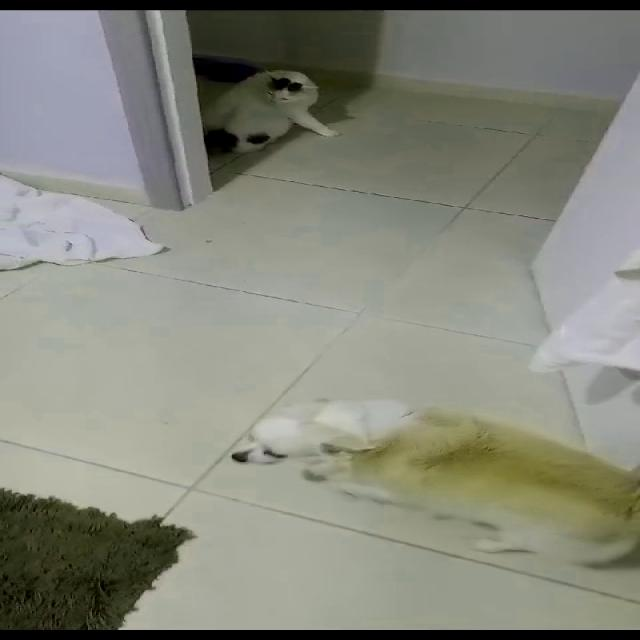Simba: (198, 48, 339, 192)
Theo: (194, 382, 638, 598)
